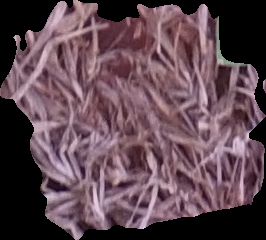soil: (1, 1, 266, 239)
